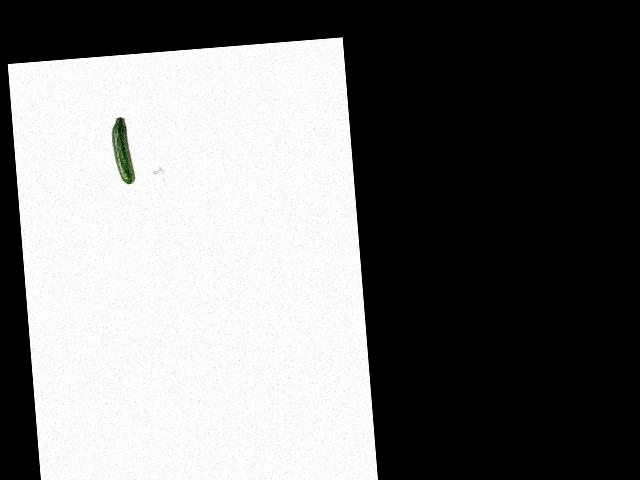cucumber: (110, 116, 135, 185)
